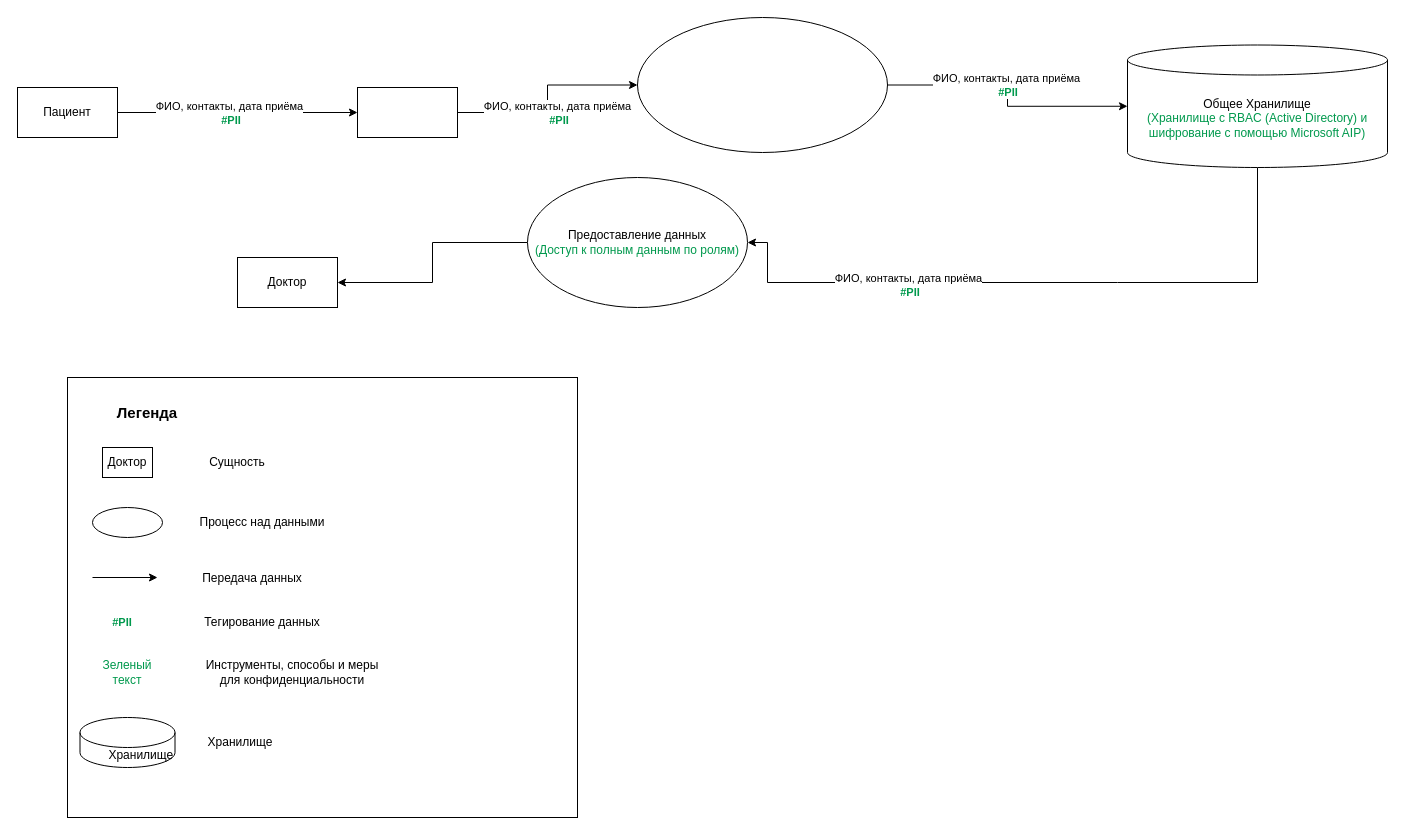
This 1405x835 diagram has some shape labels left out. The shapes that lost their labels are listed below. From the top down, each one's centre as x and y in pixels, then its label:
[762,84]: ввод данных в excel (Ввод данных с автоматическим тегированием (Microsoft AIP))
[407,112]: Администратор
[127,522]: процесс
